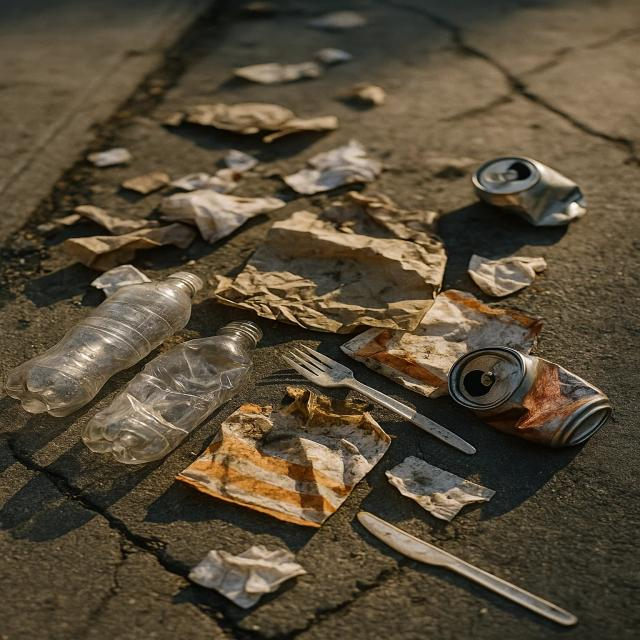aluminum: (441, 344, 611, 450), (474, 150, 590, 228)
paper: (164, 193, 285, 234)
plastic: (76, 319, 267, 467), (12, 272, 190, 414)
